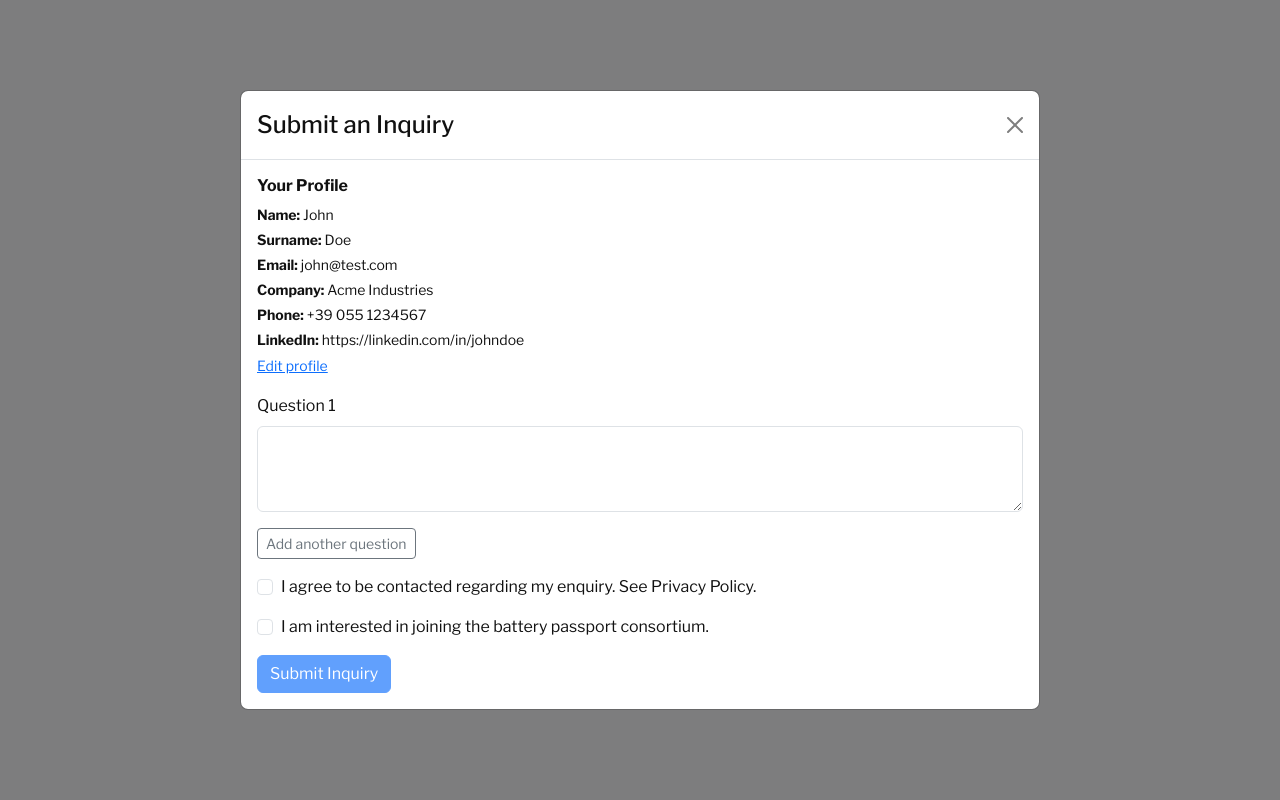
ContactForm › shows success alert after successful submission
Type "My question" into the text box labelled "Question 1" at (640, 469), box [257,426,1023,512]
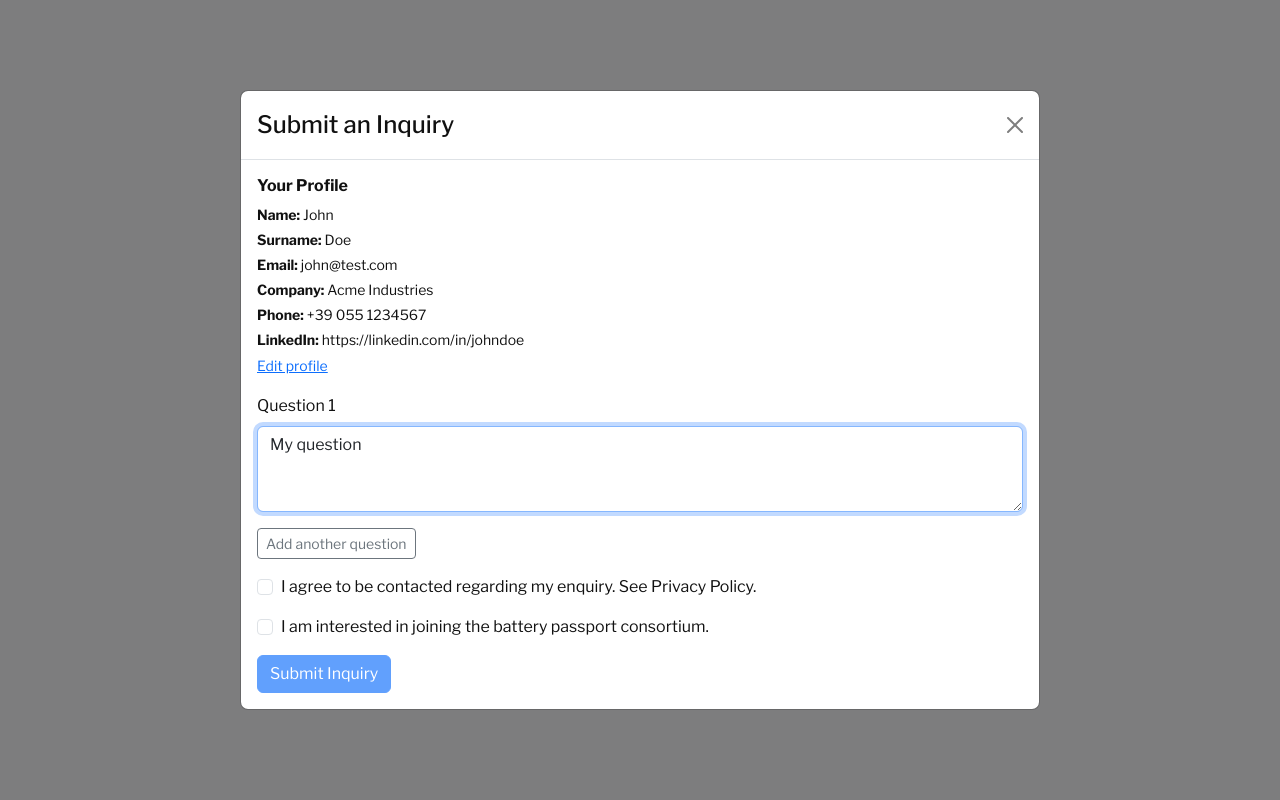
Click the checkbox labelled "agree to be contacted" at (265, 587), box [257,579,273,595]
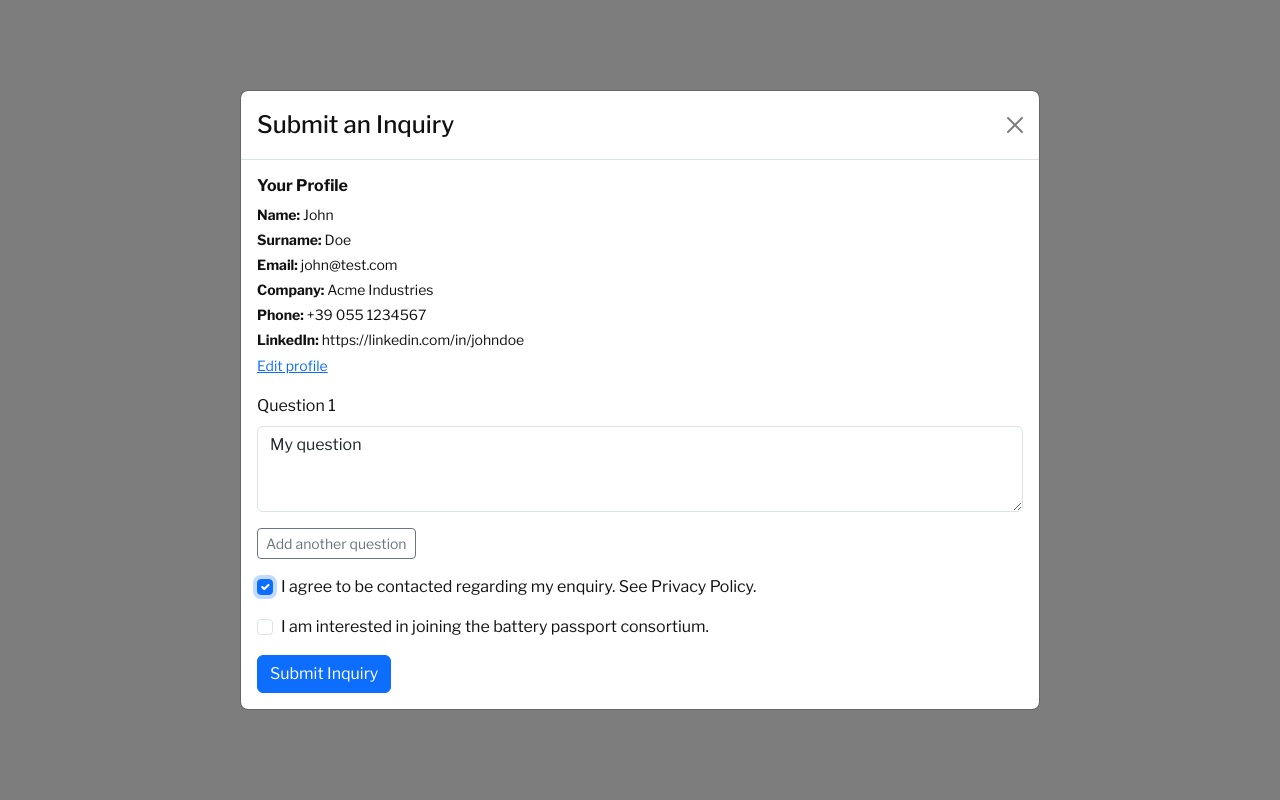
Click the button "Submit Inquiry" at (324, 674), box [257,655,391,693]
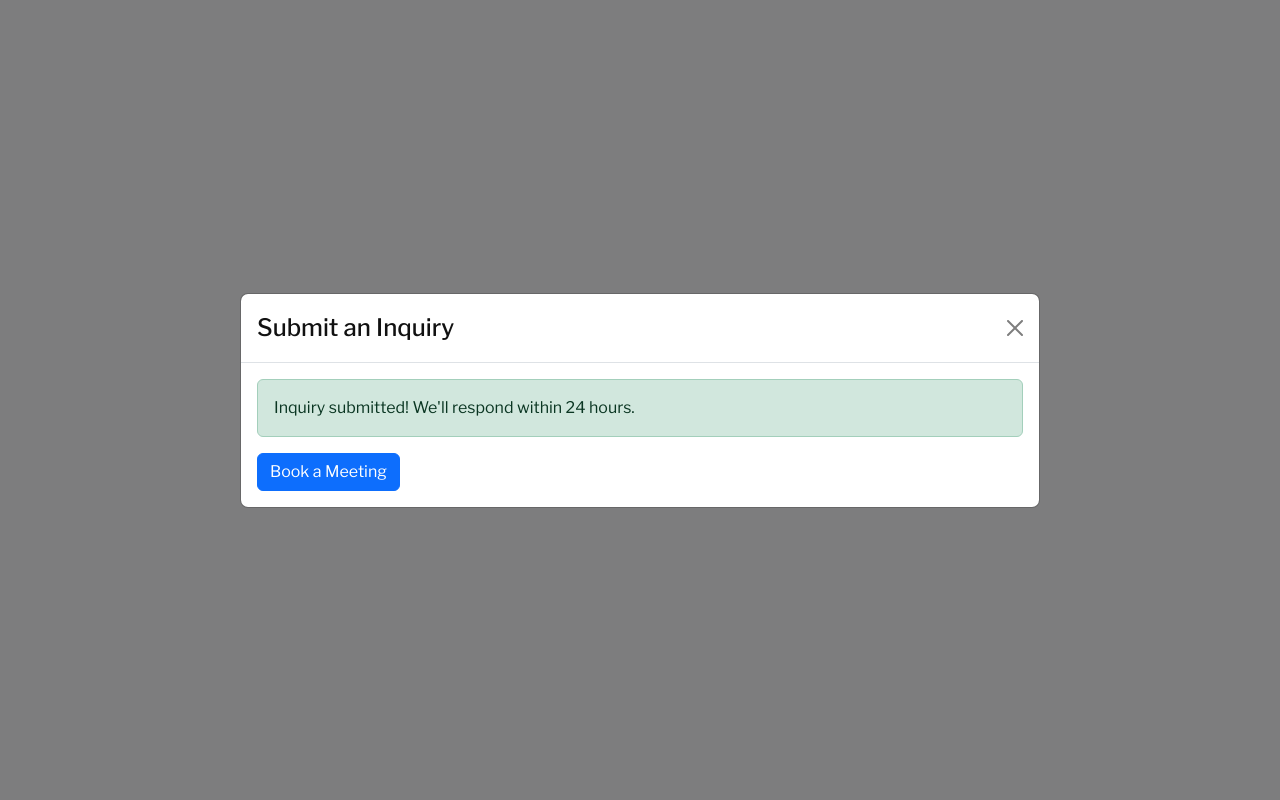
Result: the text "Inquiry submitted! We'll respond within 24 hours." is shown at [257,378,1023,436]
